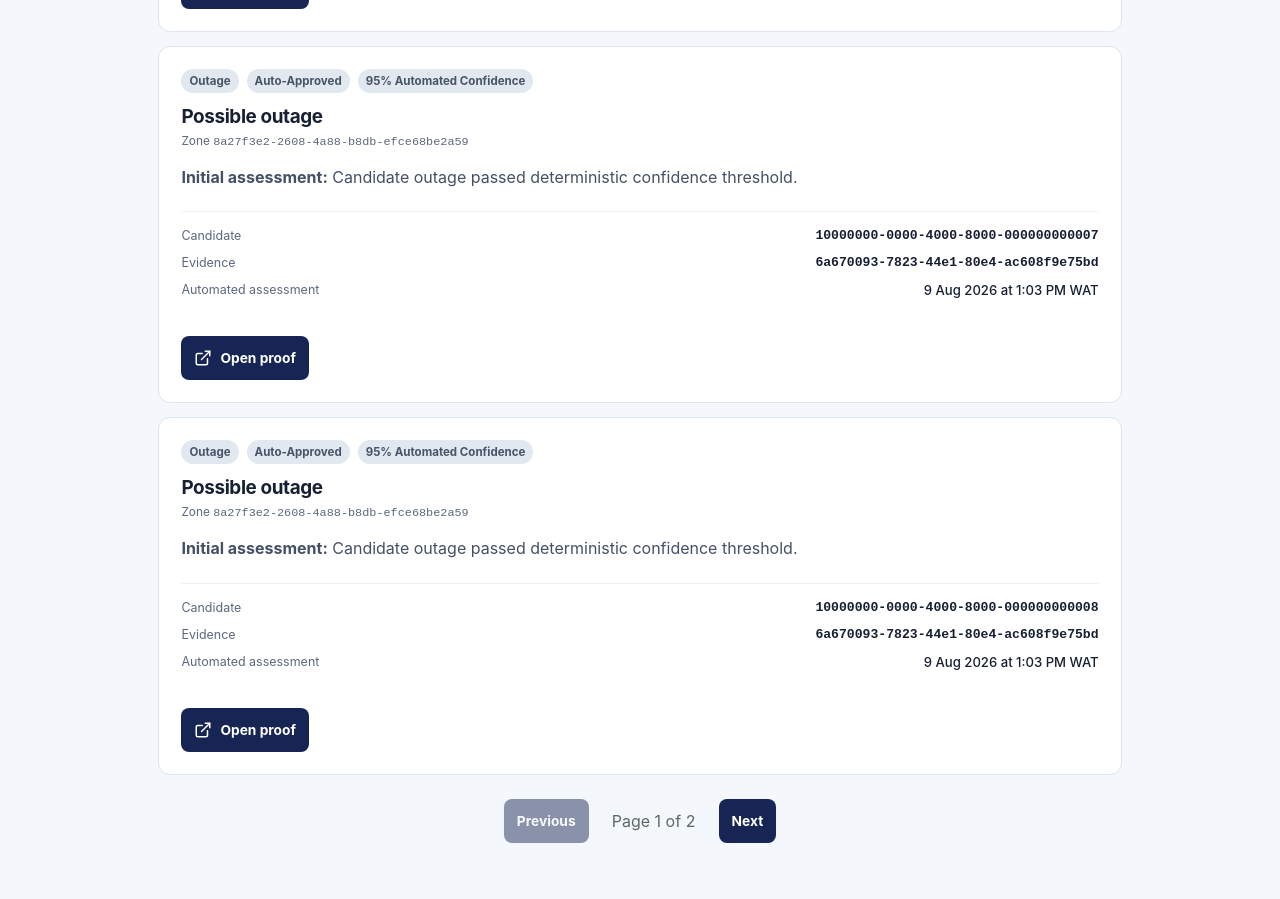
Test: AlertsFeed › paginates long alert lists
The image size is (1280, 899).
(page scrolled)
Click the button "Next". click: (747, 821)
box: [719,799,776,843]
(page scrolled)
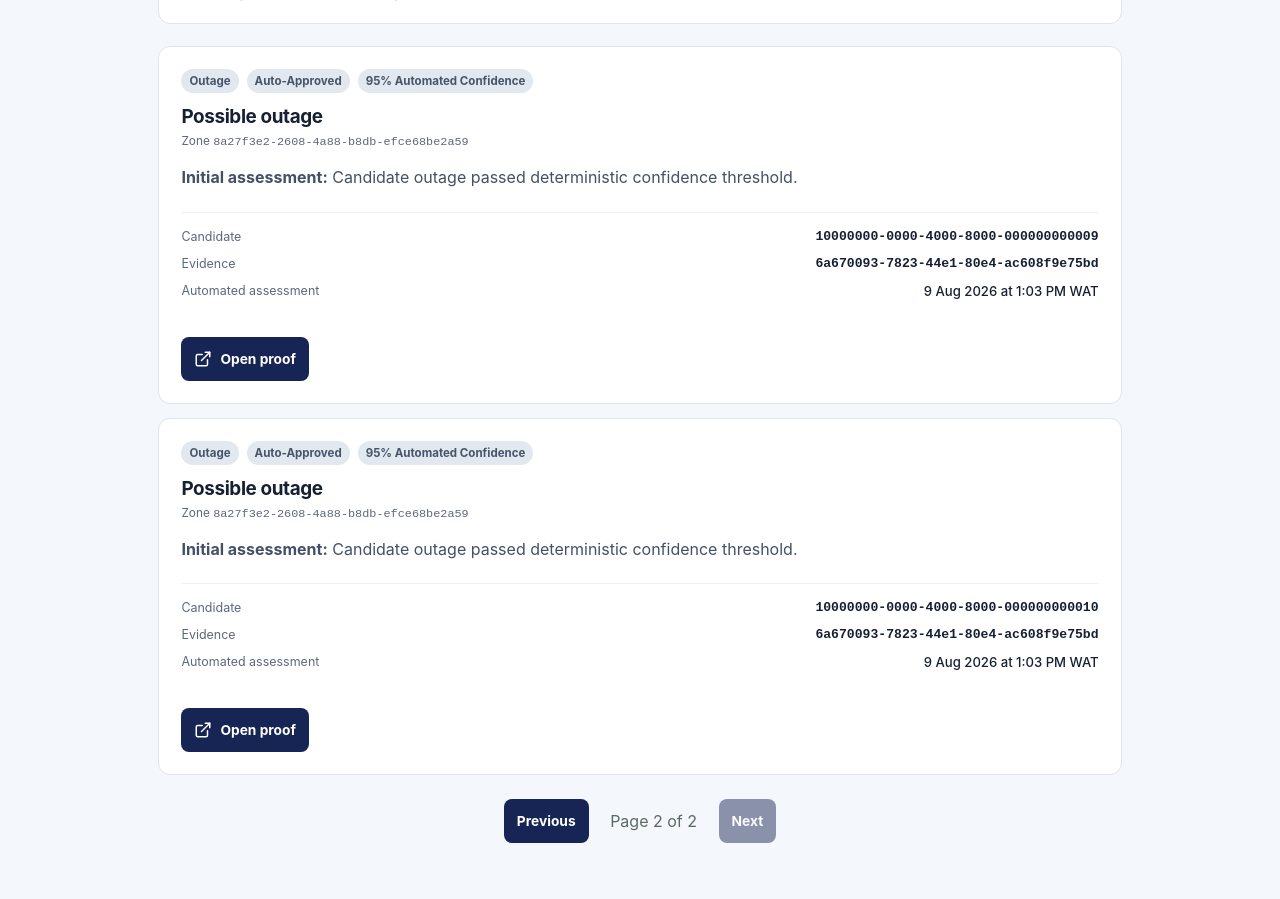
Expected: the text "Page 2 of 2" is shown, [610,811,697,831]
Expected: the button "Next" is disabled, [719,799,776,843]
